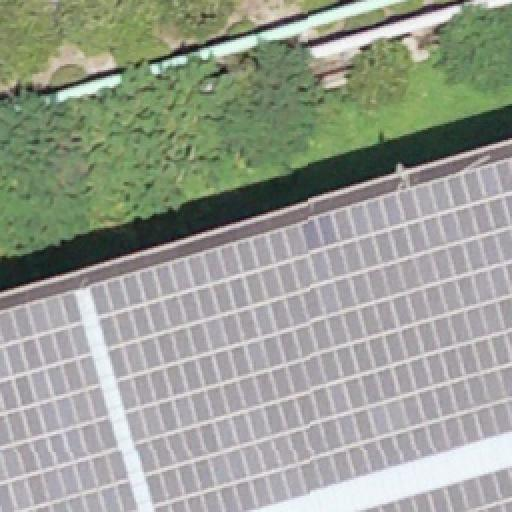solar-panel: (89, 164, 511, 512), (0, 289, 136, 511), (368, 468, 512, 512)
